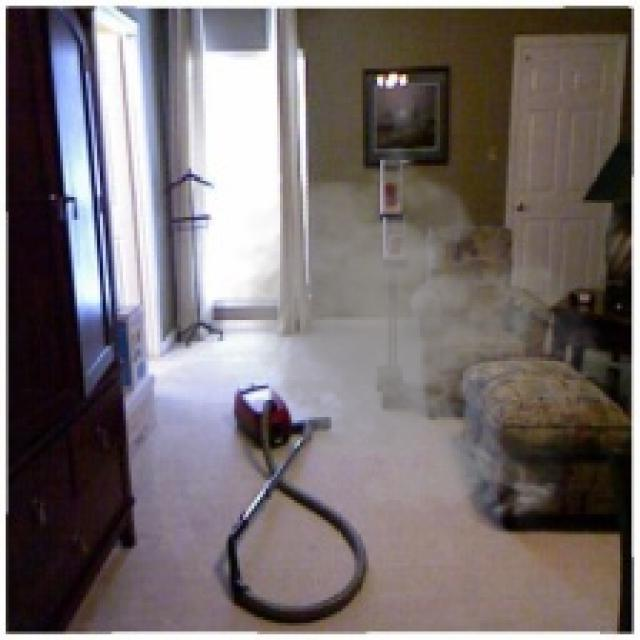Smoke: (217, 142, 623, 528)
